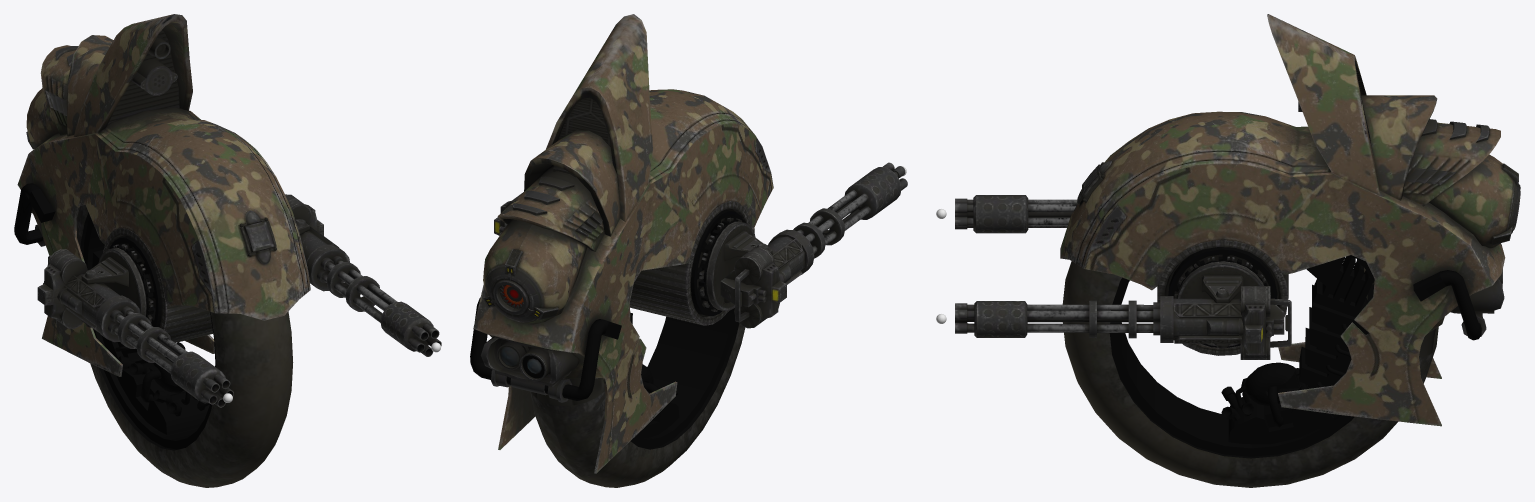
Rendered from monowheelArmyBot.glb.
The picture shows the model from 3 angles, left to right: view 1: azimuth 30°, elevation 25°; view 2: azimuth 150°, elevation 25°; view 3: azimuth 270°, elevation 25°; orthographic projection. The views are drawn at different scales.
Parts seen in each view (by area): view 1: Body, Tire; view 2: Body, Tire; view 3: Body, Tire.
Boxes of the visible parts, x1=… form: Body: x1=14, y1=14, x2=441, y2=434; Tire: x1=76, y1=205, x2=293, y2=487; Body: x1=470, y1=14, x2=907, y2=473; Tire: x1=530, y1=228, x2=754, y2=487; Body: x1=955, y1=14, x2=1520, y2=444; Tire: x1=1062, y1=258, x2=1438, y2=487.
Bounding box in the file's own units: 0.7233 × 1.13 × 1.27.
Materials: 1 (1 with a texture image).
